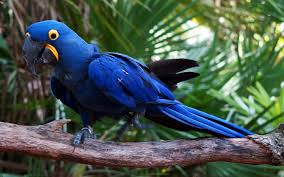guacamaya: (19, 16, 260, 144)
